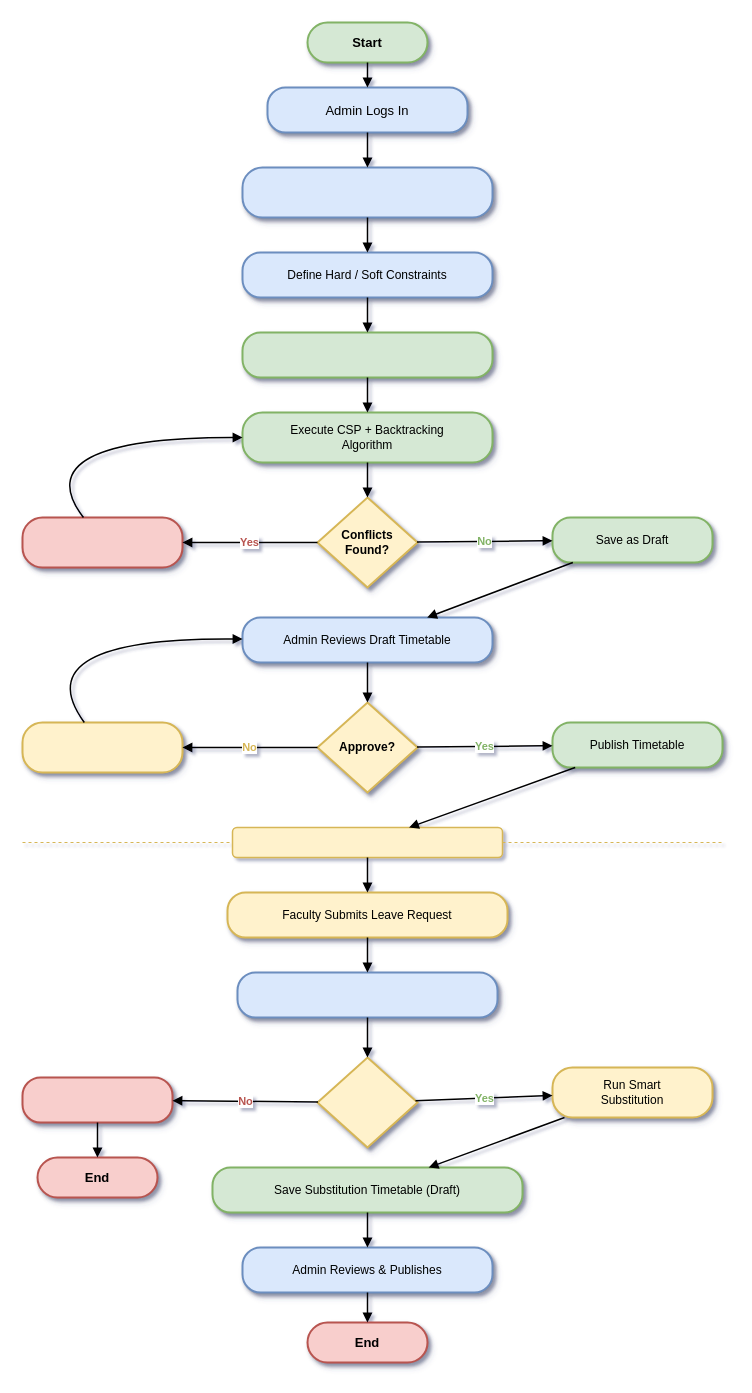
The diagram is 752 pixels wide and 1393 high, and some of its shapes have lost their labels. Each missing label, with the centre of its shape:
"Admin Reviews Leave Request" goes at [368,996].
"Approved?" goes at [368,1103].
"Backtrack & Reassign Slot" goes at [103,543].
"Edit Slots Manually" goes at [103,748].
"Leave Denied" goes at [98,1101].
"Setup: Departments, Faculty, Subjects, Rooms" goes at [368,193].
"Trigger Timetable Generation" goes at [368,356].
"— Smart Substitution Flow —" goes at [367,842].
